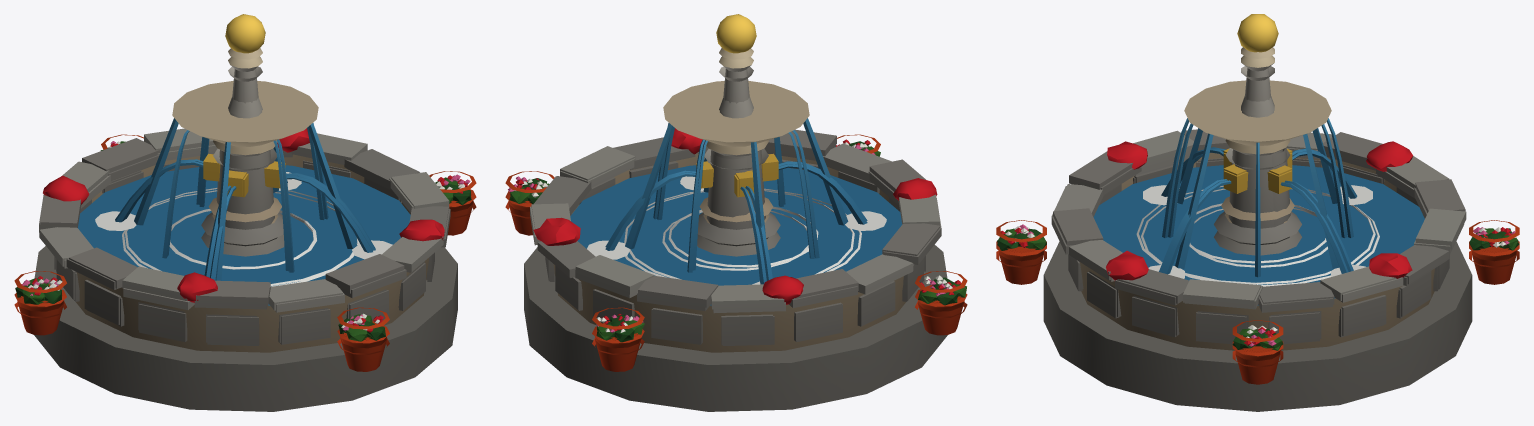
Rendered from Fountain_Plaza.fbx.
3 views of the same model, side by side, from view 1: azimuth 30°, elevation 25°; view 2: azimuth 150°, elevation 25°; view 3: azimuth 270°, elevation 25° (orthographic).
Visible parts, largest first — view 1: Fountain_Plaza_LOD0; view 2: Fountain_Plaza_LOD0; view 3: Fountain_Plaza_LOD0.
Boxes of the visible parts, <box> form: Fountain_Plaza_LOD0: <box>14,14,476,411</box>; Fountain_Plaza_LOD0: <box>505,14,967,411</box>; Fountain_Plaza_LOD0: <box>996,14,1519,411</box>.
Size of what is drawn, in the model's own units: 7.12 by 4.58 by 7.08.
Materials: 1 (1 with a texture image).
